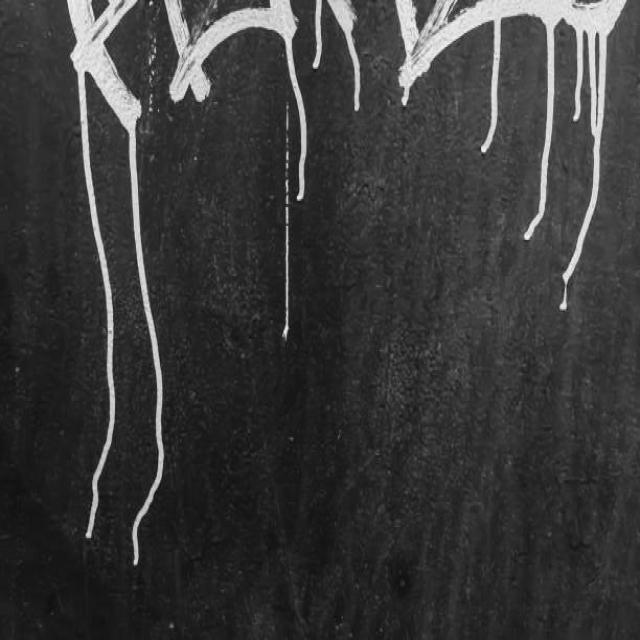paint drips: (69, 56, 173, 572), (521, 12, 618, 321), (309, 0, 368, 117), (281, 27, 315, 215), (473, 4, 507, 183), (396, 72, 422, 137)
